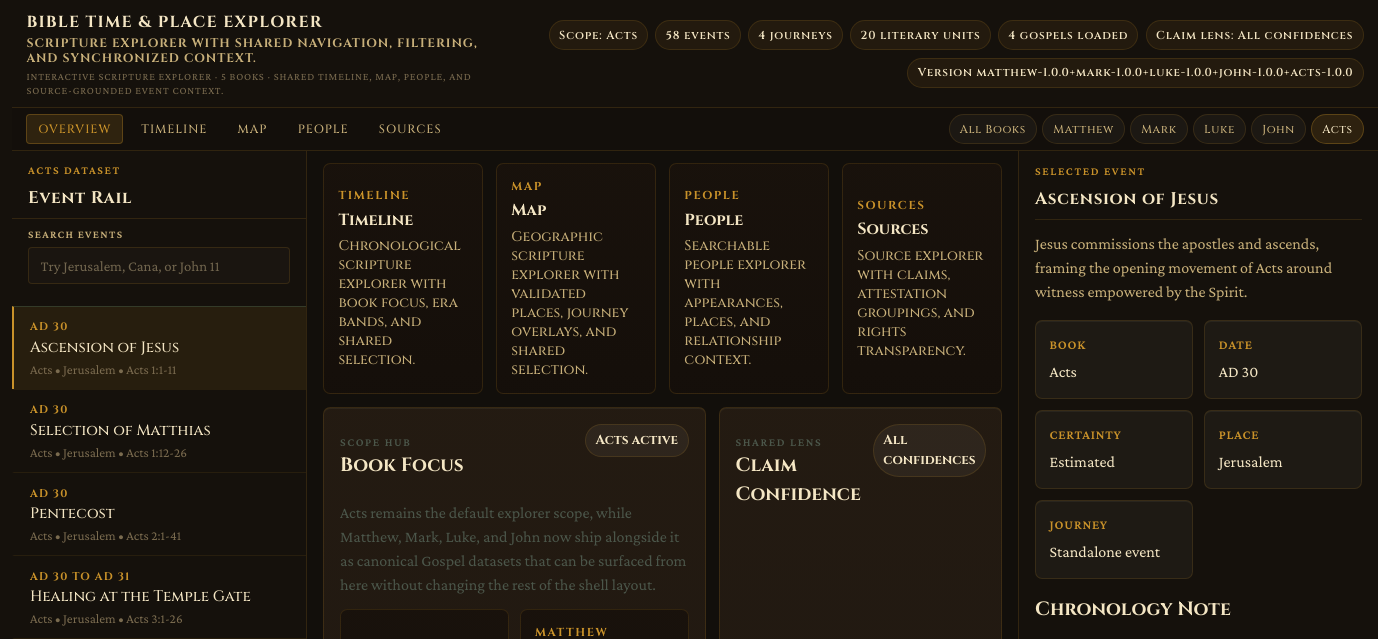
App › renders the map explorer controls, legend, and default place context
Click the tab "Map". click: (253, 129)
box: [226, 114, 279, 144]
(page scrolled)
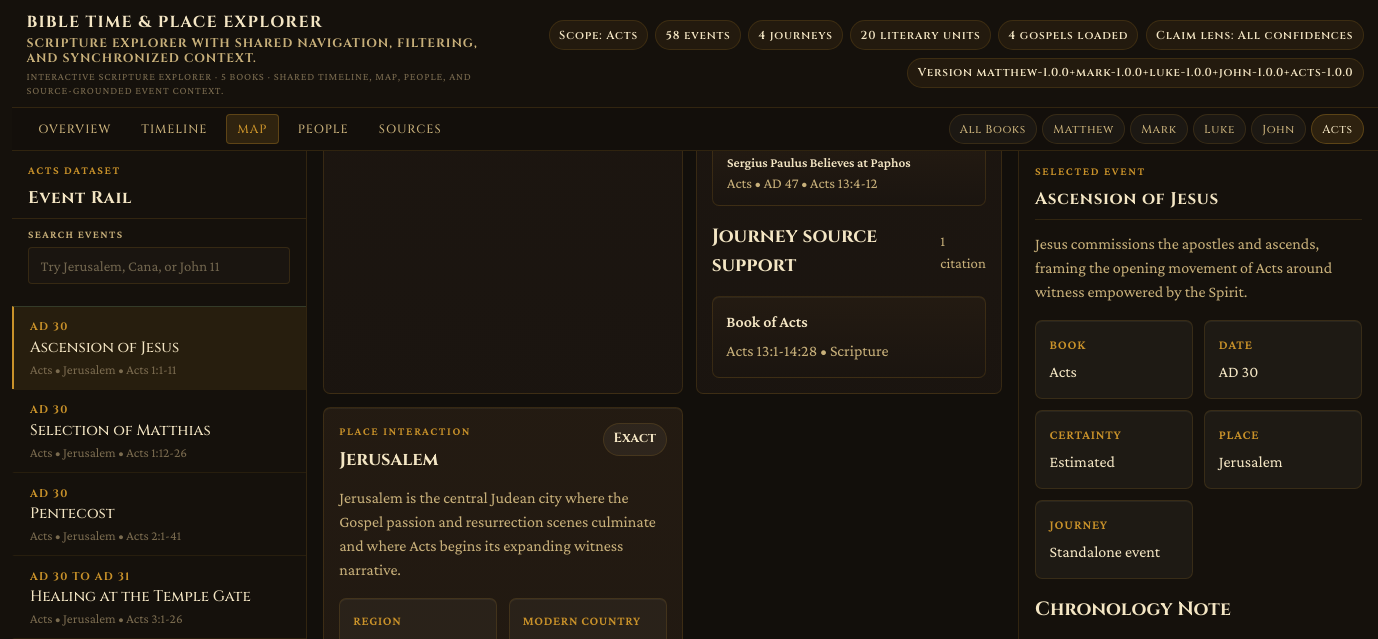
Now the heading "Jerusalem" is shown, box [339, 447, 438, 472]
